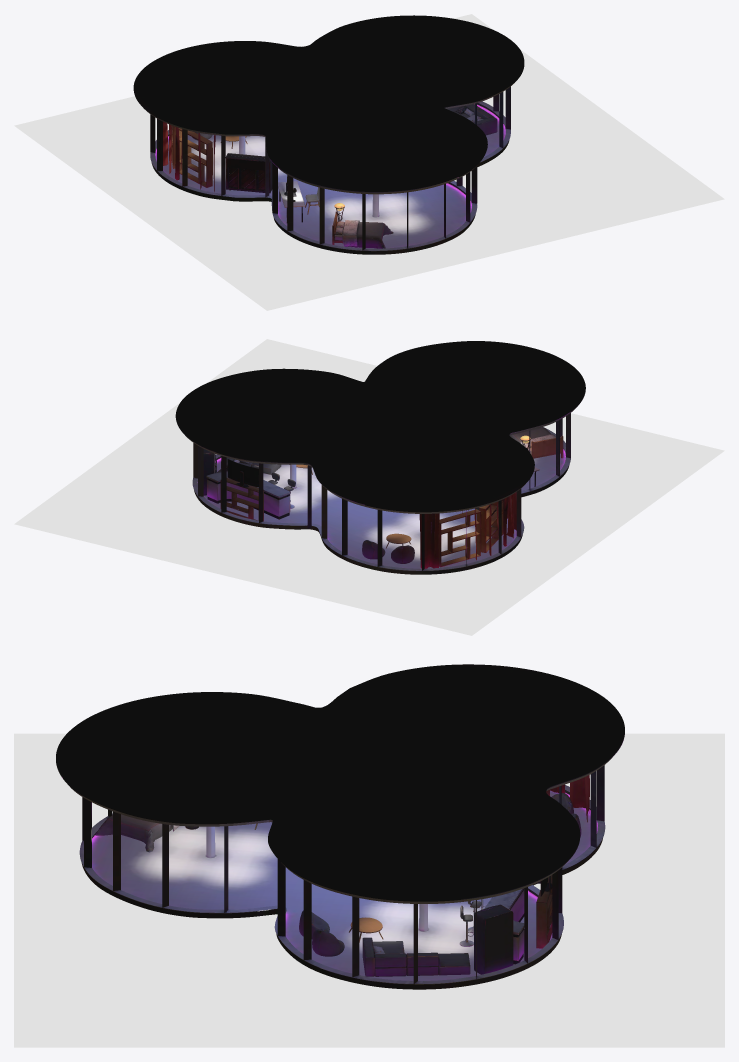
Rendered from quest home.glb.
3 renders of one model, top to bottom at view 1: azimuth 30°, elevation 25°; view 2: azimuth 150°, elevation 25°; view 3: azimuth 270°, elevation 25°, orthographic. The views are drawn at different scales.
Parts seen in each view (by area): view 1: mesh, phy-body-main-trimesh-0kg-floor; view 2: mesh, phy-body-main-trimesh-0kg-floor; view 3: mesh, phy-body-main-trimesh-0kg-floor.
Boxes of the visible parts, x1,y1,x2,y2 form: mesh: [133, 15, 524, 254]; phy-body-main-trimesh-0kg-floor: [14, 14, 724, 310]; mesh: [175, 341, 585, 574]; phy-body-main-trimesh-0kg-floor: [14, 339, 724, 635]; mesh: [56, 664, 624, 989]; phy-body-main-trimesh-0kg-floor: [14, 733, 724, 1047].
Size of what is drawn, in the model's own units: 23.36 by 3.63 by 22.37.
Materials: 3 (2 with a texture image).
